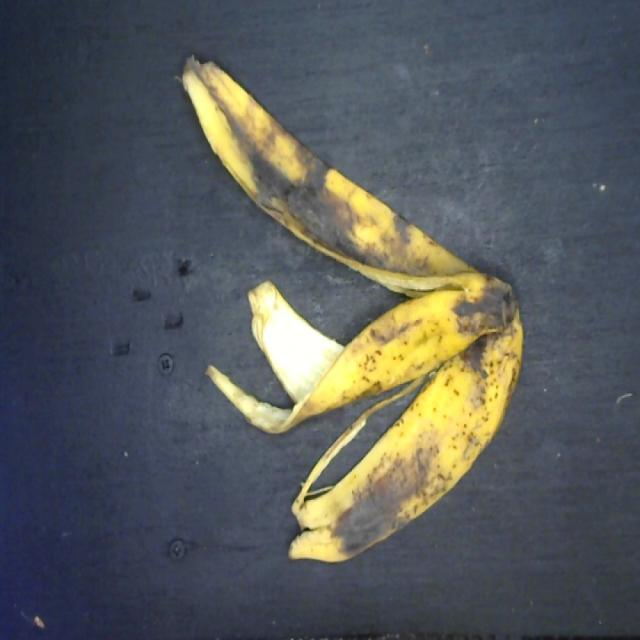biodegradable: (173, 43, 526, 574)
